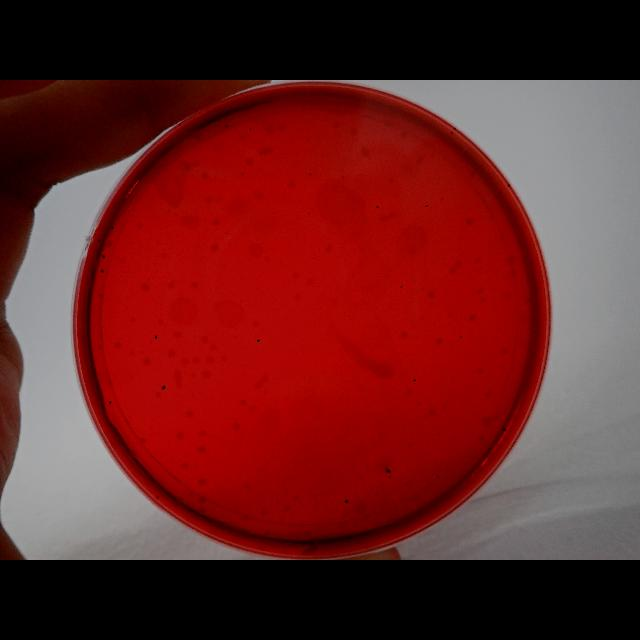colony: (342, 495, 352, 509), (372, 200, 382, 212), (410, 374, 420, 386), (500, 424, 510, 436), (97, 266, 107, 276), (99, 252, 109, 262), (152, 331, 160, 343), (108, 222, 116, 234), (422, 200, 430, 212), (106, 397, 114, 407), (456, 332, 464, 342), (159, 383, 167, 392), (398, 280, 404, 292), (382, 468, 394, 474), (96, 236, 102, 247), (255, 336, 262, 344), (386, 473, 392, 481), (506, 183, 512, 190), (450, 130, 454, 136)
